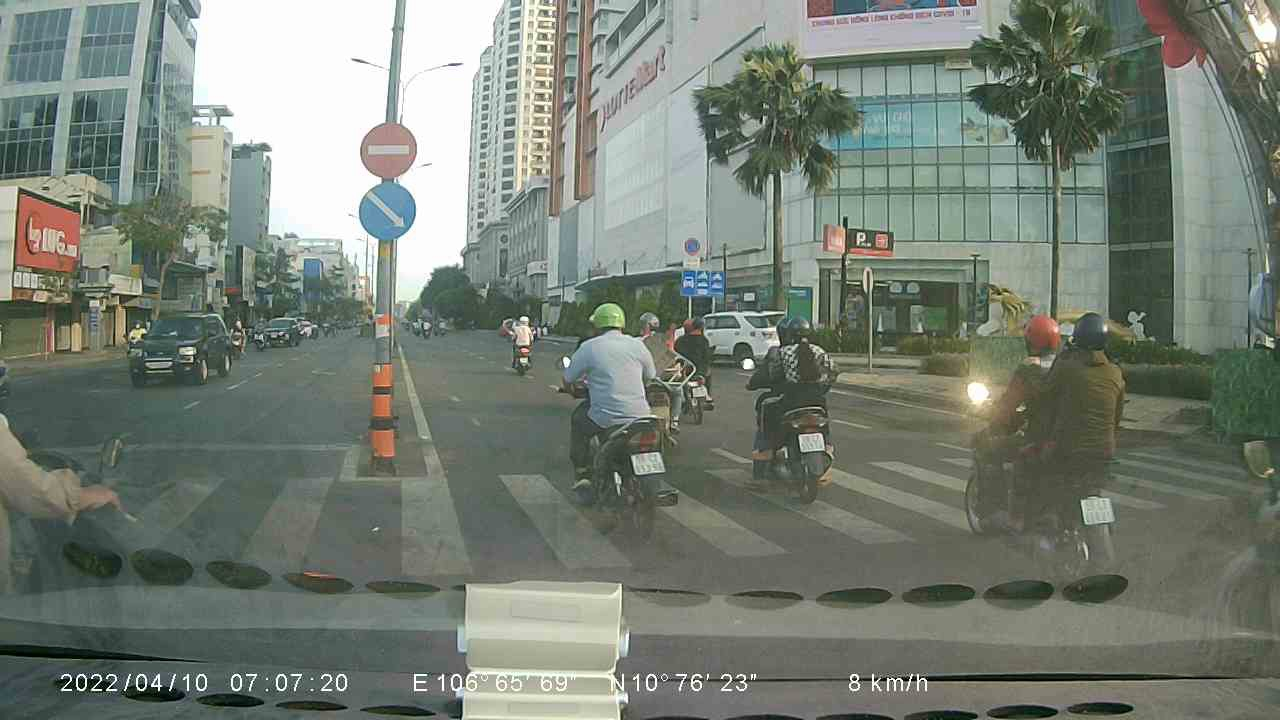Cam di nguoc chieu: (357, 119, 420, 177)
Huong di phai re phai: (356, 180, 419, 240)
